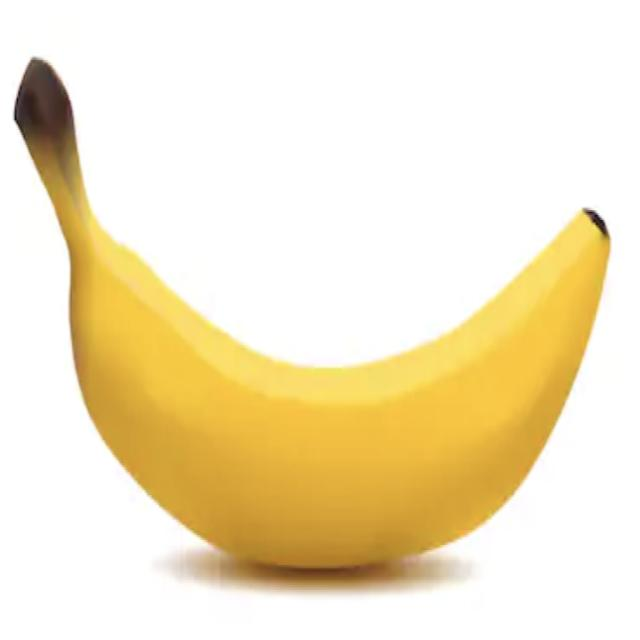fresh-banana: (12, 53, 611, 572)
